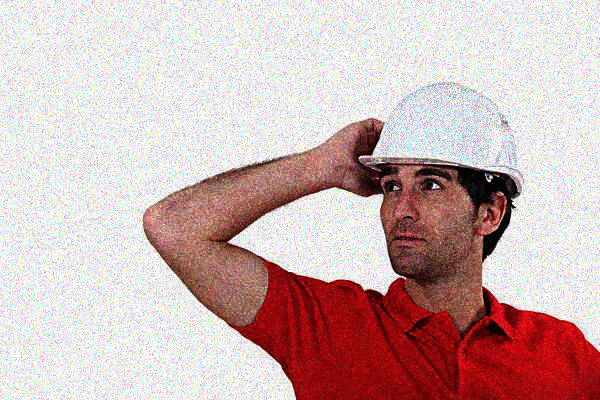helmet: (354, 80, 529, 277)
